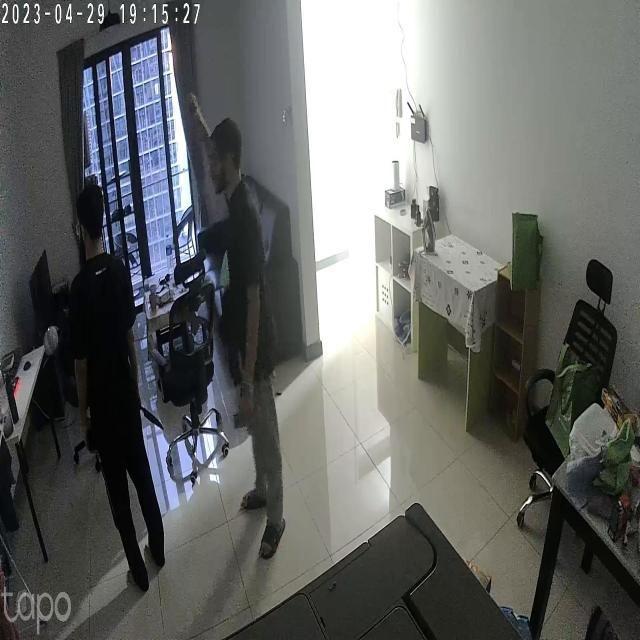Knife: (138, 400, 169, 435)
